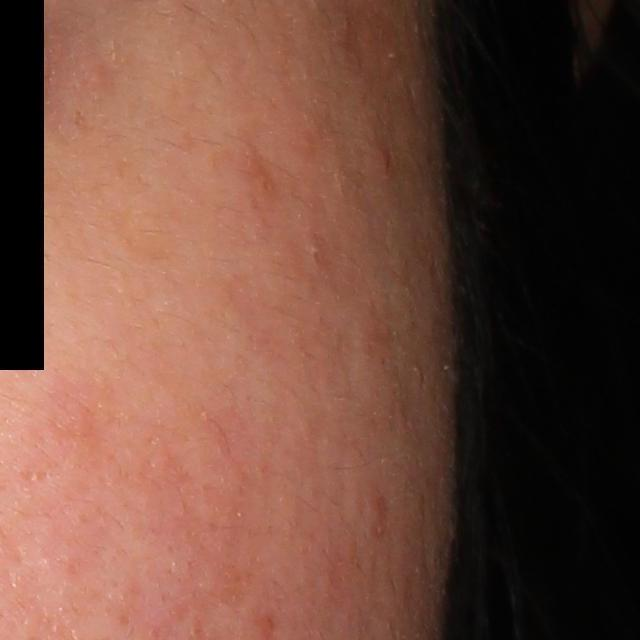papule: (376, 142, 391, 176)
